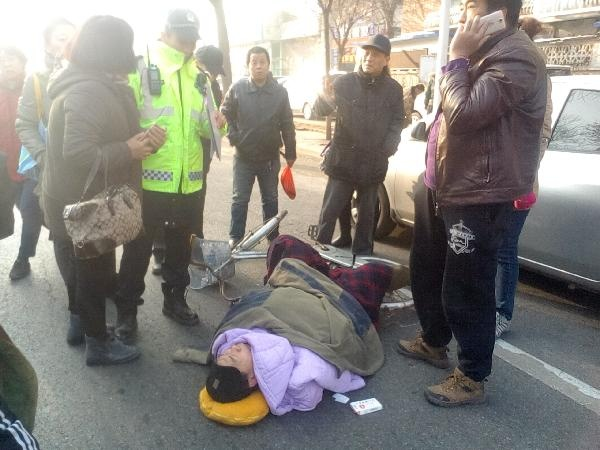falling: (177, 224, 431, 430)
